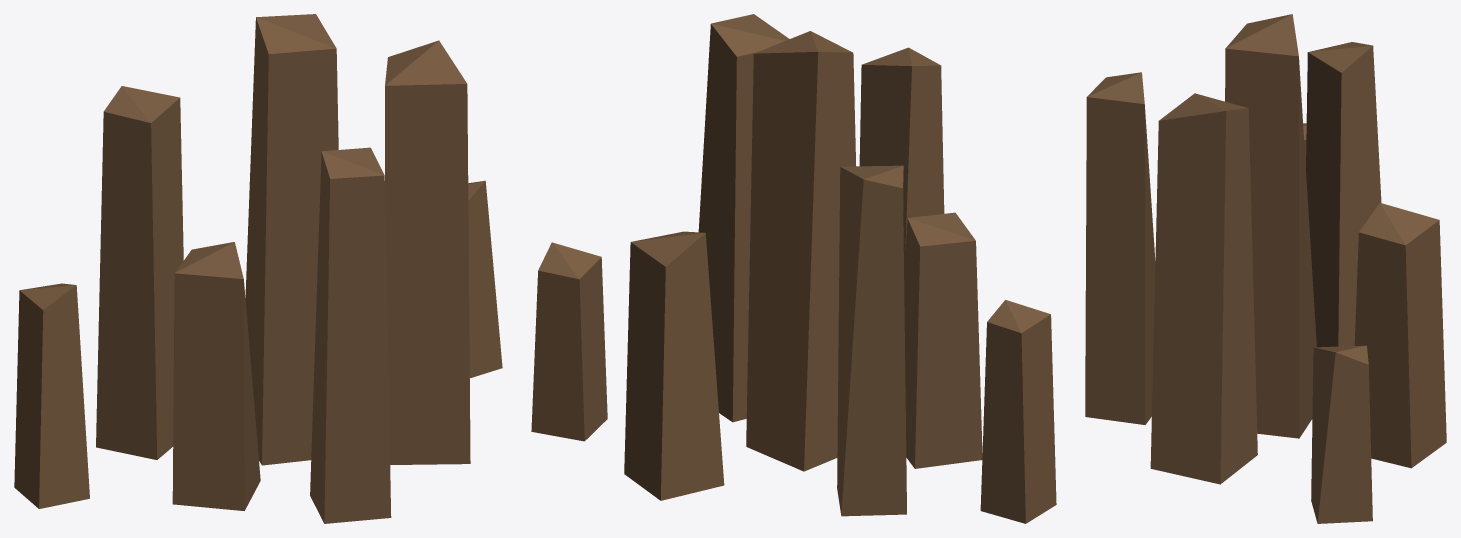
Rendered from quaternius-ultimate-space-pack-grass-2-transformed.glb.
3 renders of one model, left to right at view 1: azimuth 30°, elevation 25°; view 2: azimuth 150°, elevation 25°; view 3: azimuth 270°, elevation 25°, orthographic. The views are drawn at different scales.
Parts seen in each view (by area): view 1: Grass_2; view 2: Grass_2; view 3: Grass_2.
Part boxes in pixels (bbox=[...]): Grass_2: bbox=[14, 14, 502, 523]; Grass_2: bbox=[531, 14, 1056, 523]; Grass_2: bbox=[1085, 14, 1446, 523].
Size of the model in its own units: 1.7 by 1.4 by 1.17.
1 material, 1 textured.
